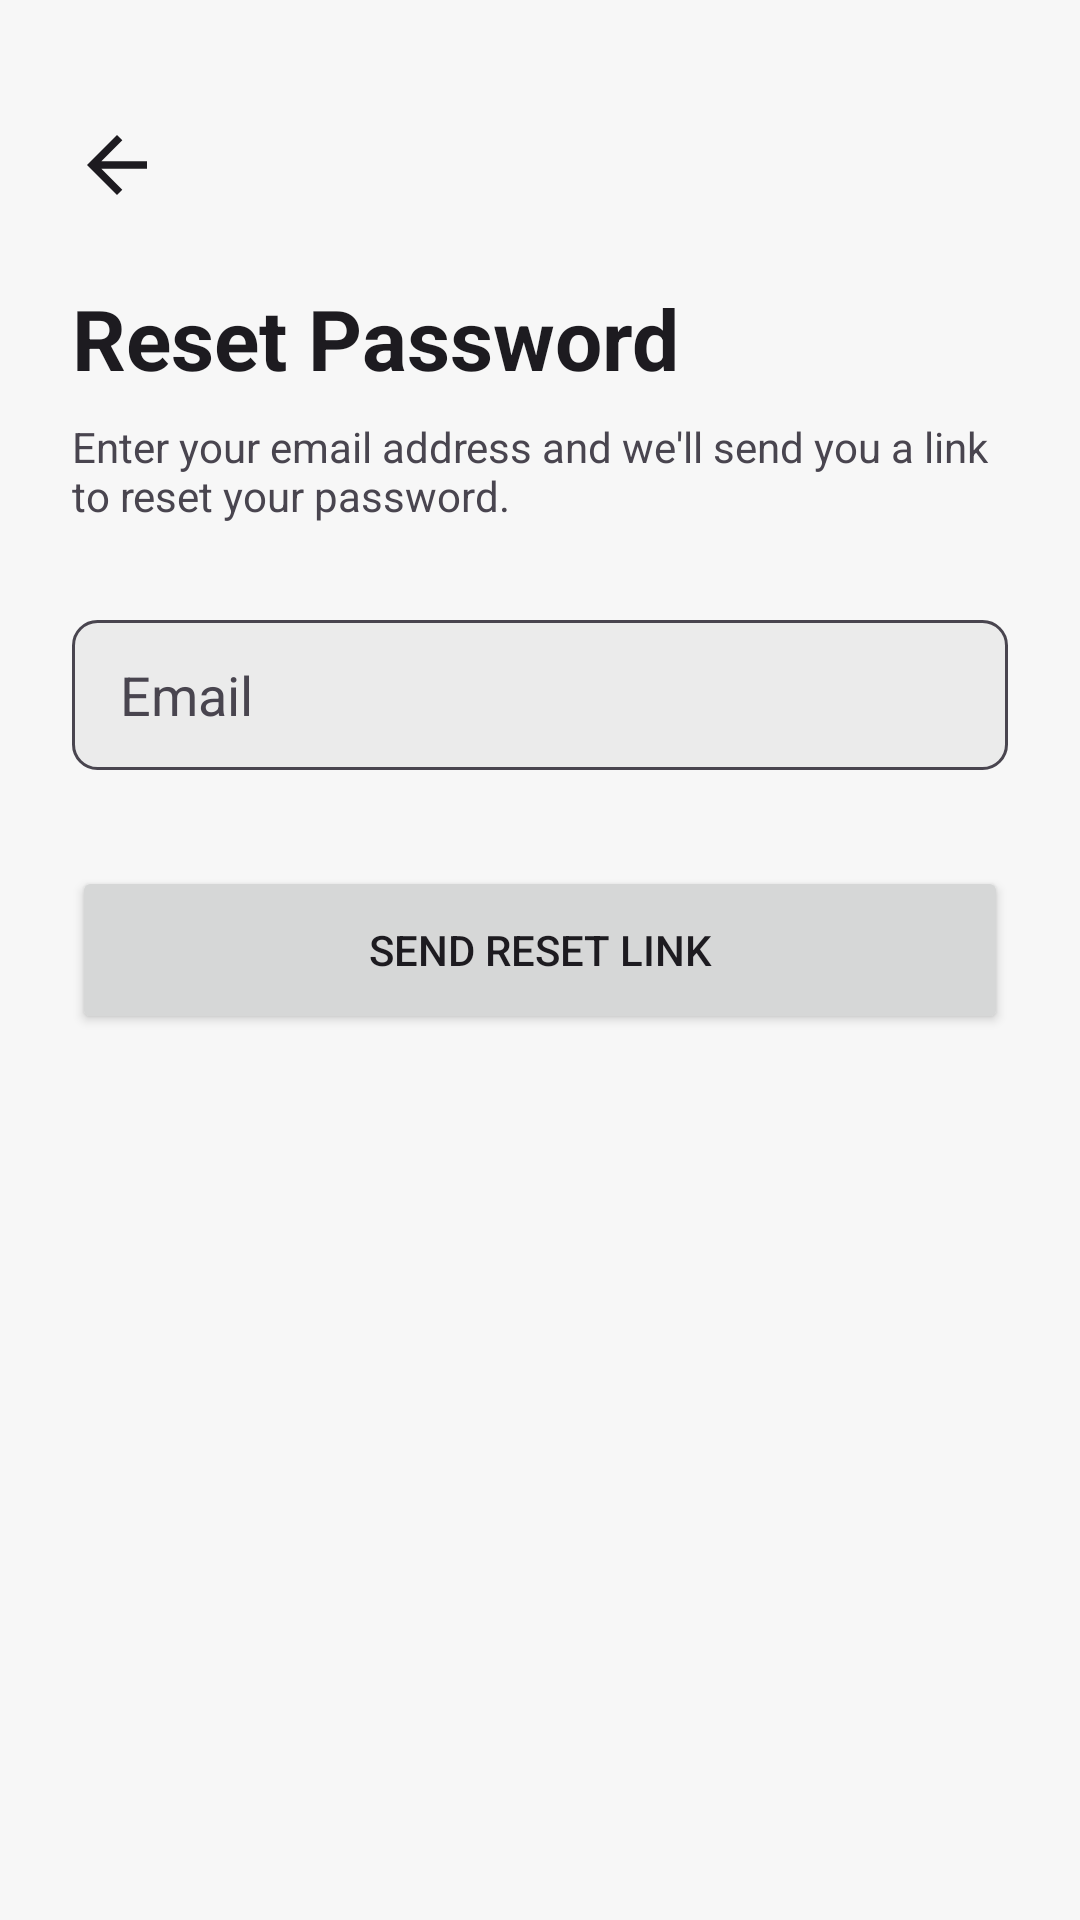

Icon bounding boxes for this 1080 x 1920 phone screenshot, format [x1,y1,x2,y2]:
arrow back: [87,135,147,195]
